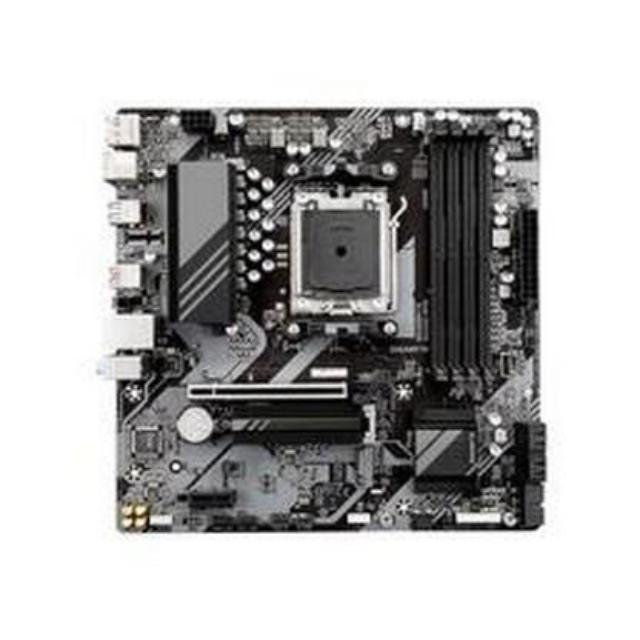Mainboard: (97, 92, 549, 548)
